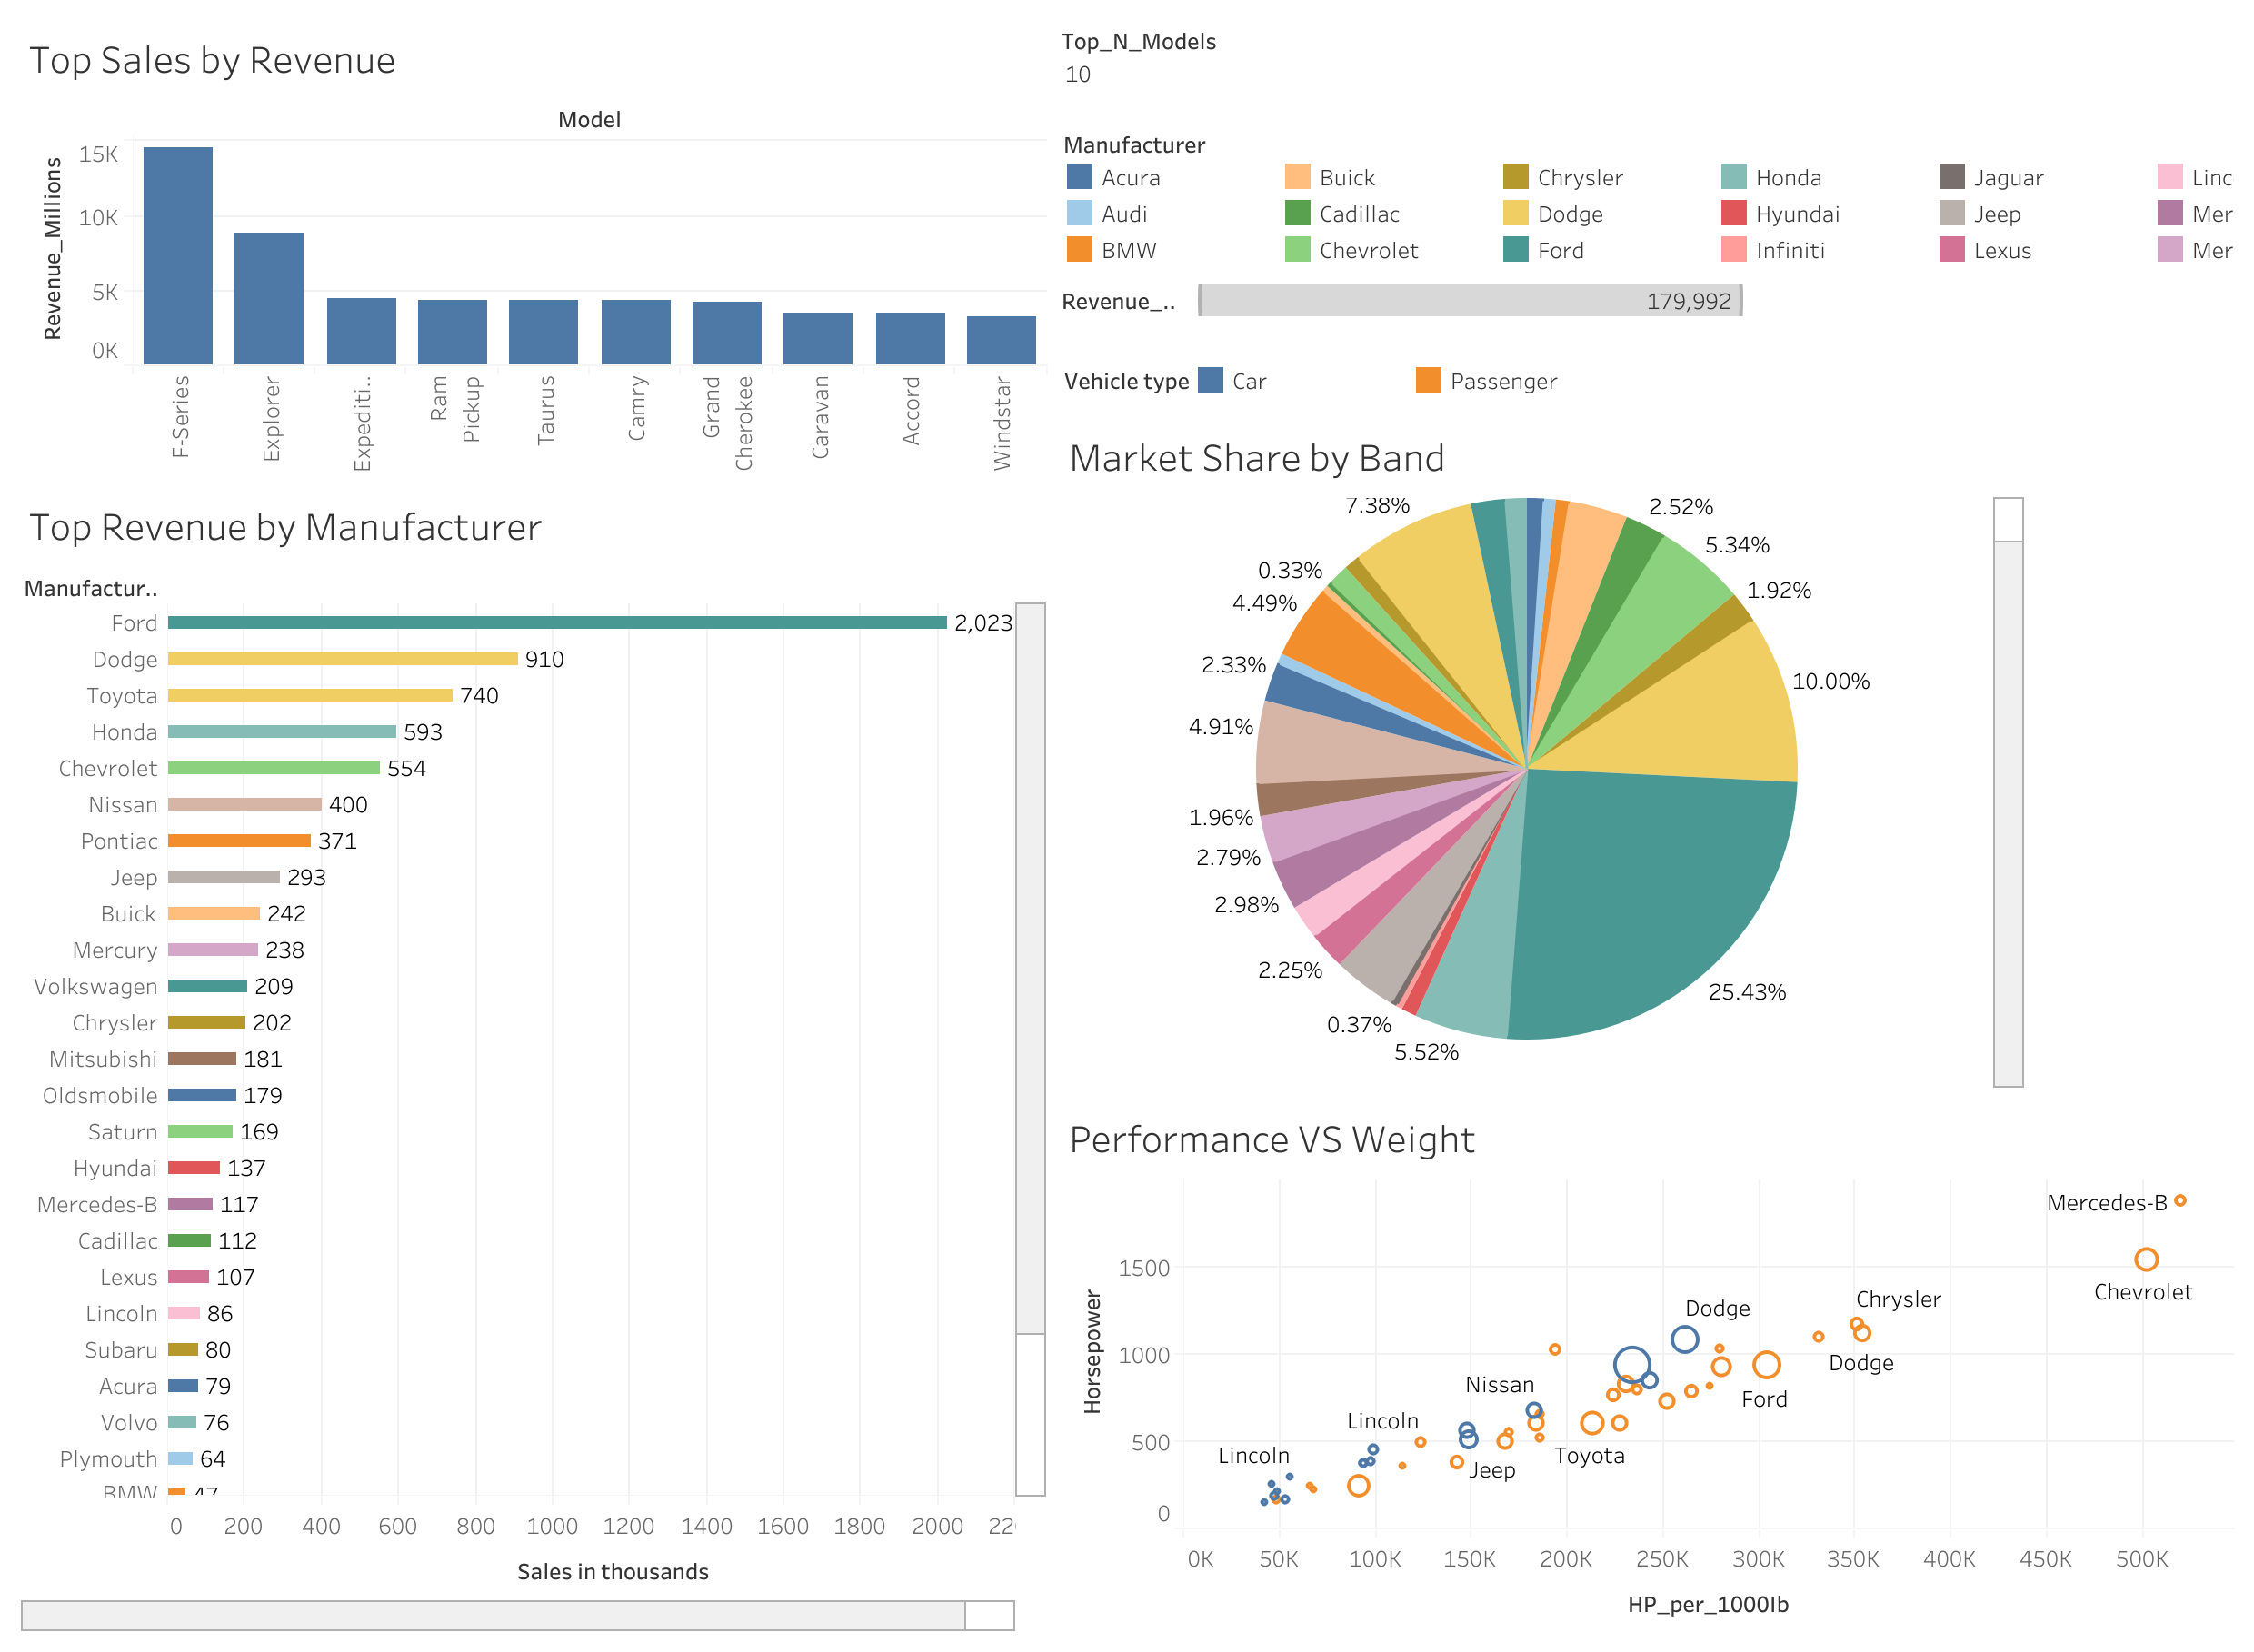

Layout of this report page (visuals, bound fields, positions):
{"tool":"tableau","page":{"name":"Vehicle Performance and Sales Overview","canvas":[1241,910],"ordinal":1},"visuals":[{"type":"worksheet","title":"Sheet 5","mark":"Automatic","rows":["Calculation_343540212339933185"],"cols":["Model"],"box":[8,8,572,257]},{"type":"parameter","param":"[Parameters].[Manufacturer Parameter]","box":[580,8,653,56]},{"type":"legend","title":"Sheet 9","param":"[federated.1cc882q0q8sxp71auflka1kynpug].[none:Manufacturer:nk]","box":[580,64,653,87]},{"type":"legend","title":"Sheet 9","param":"[federated.1cc882q0q8sxp71auflka1kynpug].[sum:Calculation_343540212339933185:qk]","box":[580,151,653,44]},{"type":"legend","title":"Sheet 7","param":"[federated.1cc882q0q8sxp71auflka1kynpug].[none:Vehicle_type:nk]","box":[580,195,653,32]},{"type":"worksheet","title":"Sheet 9","mark":"Pie","box":[580,227,653,375]},{"type":"worksheet","title":"Sheet 4","mark":"Automatic","rows":["Manufacturer"],"cols":["Sales_in_thousands"],"box":[8,265,572,637]},{"type":"worksheet","title":"Sheet 7","mark":"Automatic","rows":["Horsepower"],"cols":["Calculation_343540212340559874"],"box":[580,602,653,300]}]}

Visuals, with their boxes in screenshot pixels (x1, y1, x2, y2), scaled from the page's 1241x910 canvas onto the 2254x1652 screenshot:
"Sheet 5" worksheet: 15 15 1053 481
parameter: 1053 15 2239 116
"Sheet 9" legend: 1053 116 2239 274
"Sheet 9" legend: 1053 274 2239 354
"Sheet 7" legend: 1053 354 2239 413
"Sheet 9" worksheet (Pie marks): 1053 413 2239 1093
"Sheet 4" worksheet: 15 481 1053 1637
"Sheet 7" worksheet: 1053 1093 2239 1637
